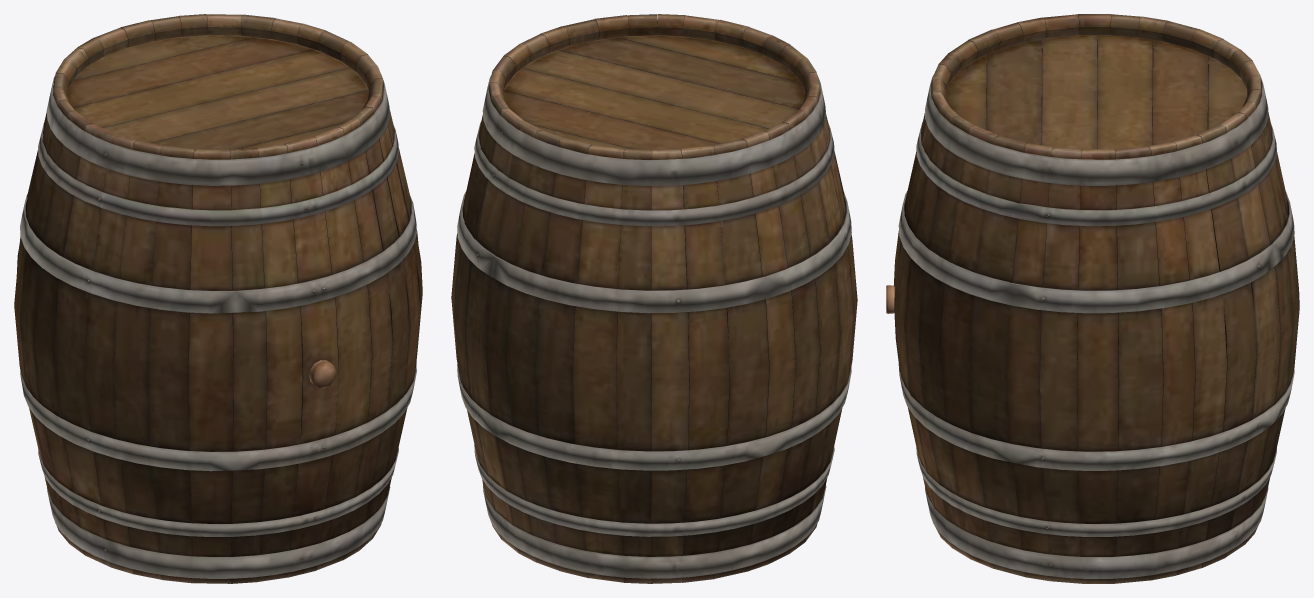
The model's file is wine_barrel_01.glb.
3 views of the same model, side by side, from view 1: azimuth 30°, elevation 25°; view 2: azimuth 150°, elevation 25°; view 3: azimuth 270°, elevation 25° (orthographic).
Visible parts, largest first — view 1: wine_barrel_01_Lid; view 2: wine_barrel_01_Lid; view 3: wine_barrel_01_Lid.
Part boxes in pixels (bbox=[...]): wine_barrel_01_Lid: bbox=[14, 14, 422, 583]; wine_barrel_01_Lid: bbox=[451, 14, 857, 583]; wine_barrel_01_Lid: bbox=[886, 14, 1299, 583].
Bounding box in the file's own units: 0.7419 × 0.8695 × 0.7554.
Materials: 1 (1 with a texture image).
